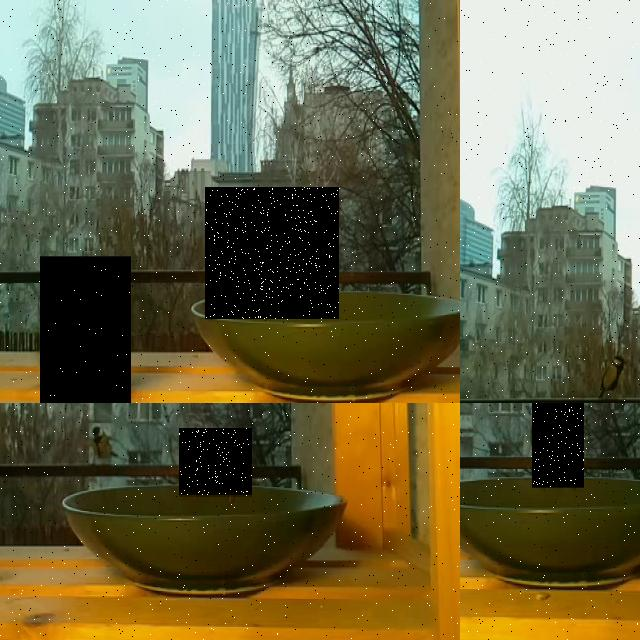Bogatka: (40, 256, 131, 403), (532, 403, 584, 487)
Wrobel: (205, 187, 339, 319), (179, 428, 252, 496)
